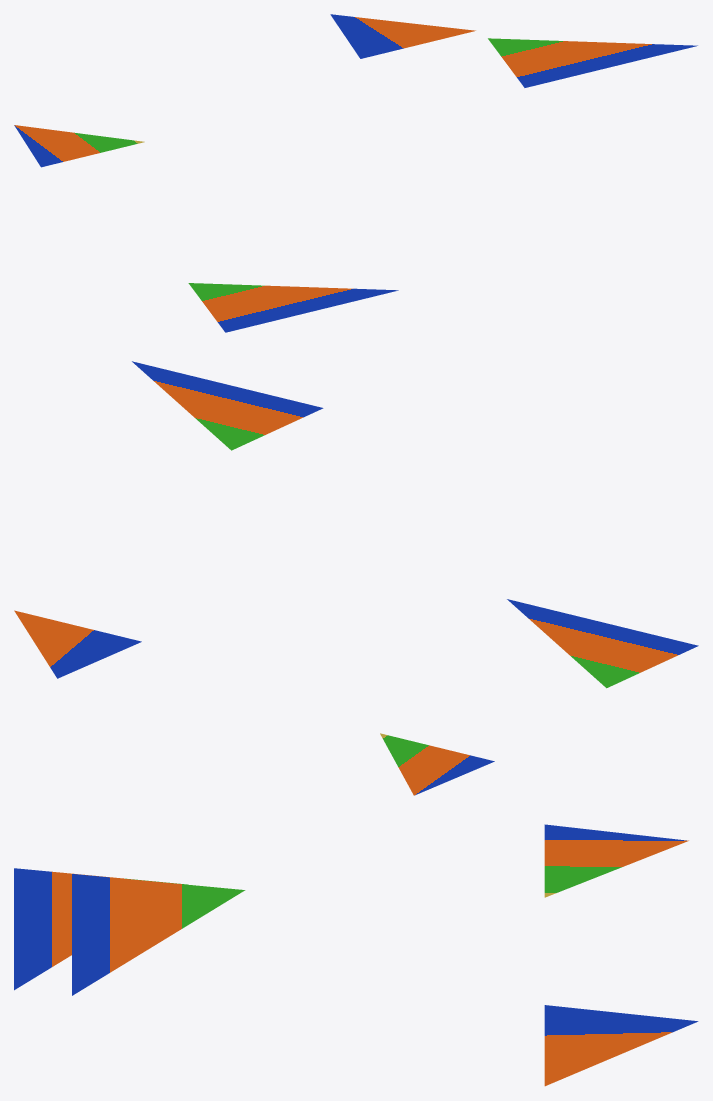
3 views of the same model, one above another, from view 1: azimuth 30°, elevation 25°; view 2: azimuth 150°, elevation 25°; view 3: azimuth 270°, elevation 25° (orthographic). The views are drawn at different scales.
Parts seen in each view (by area): view 1: AnalyticMixedUVFixture; view 2: AnalyticMixedUVFixture; view 3: AnalyticMixedUVFixture.
Part boxes in pixels (x1,y1,x2,y2): AnalyticMixedUVFixture: (14,14,697,332); AnalyticMixedUVFixture: (14,361,698,795); AnalyticMixedUVFixture: (14,824,698,1086).
Size of the model in its own units: 0.085 by 0.025 by 0.071.
3 materials, 3 textured.
